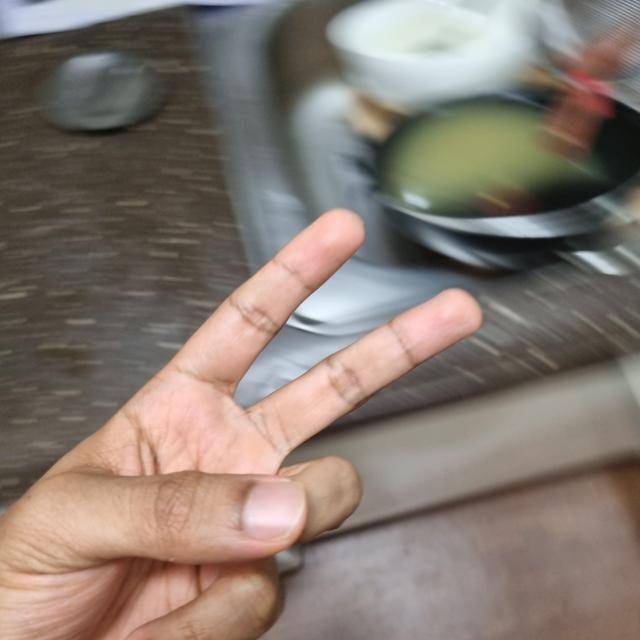Scissors: (0, 209, 474, 639)
